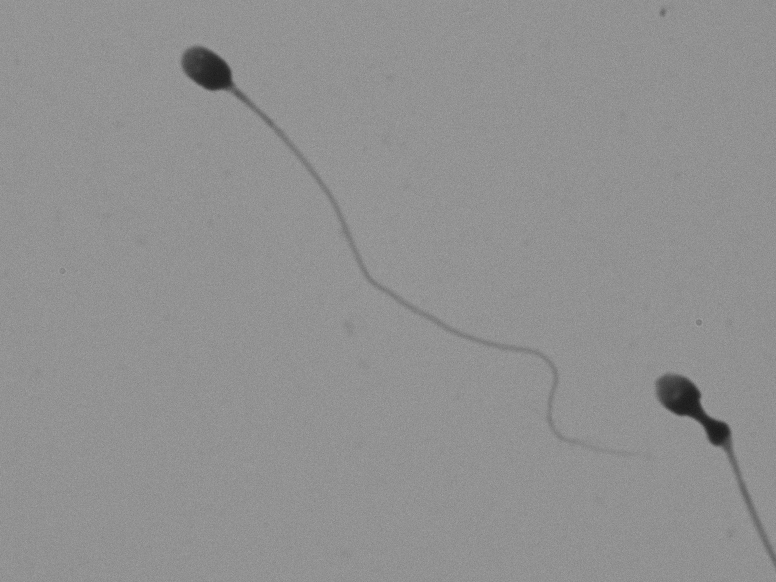Abnormal: (638, 298, 749, 543)
Normal: (157, 26, 624, 498)
